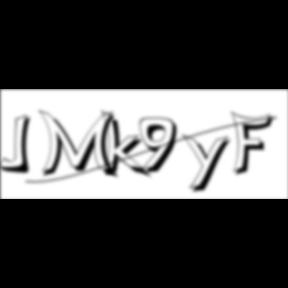9: (140, 117, 184, 177)
F: (231, 110, 279, 178)
J: (1, 114, 37, 176)
M: (38, 108, 122, 181)
k: (100, 108, 154, 181)
y: (182, 132, 236, 196)
